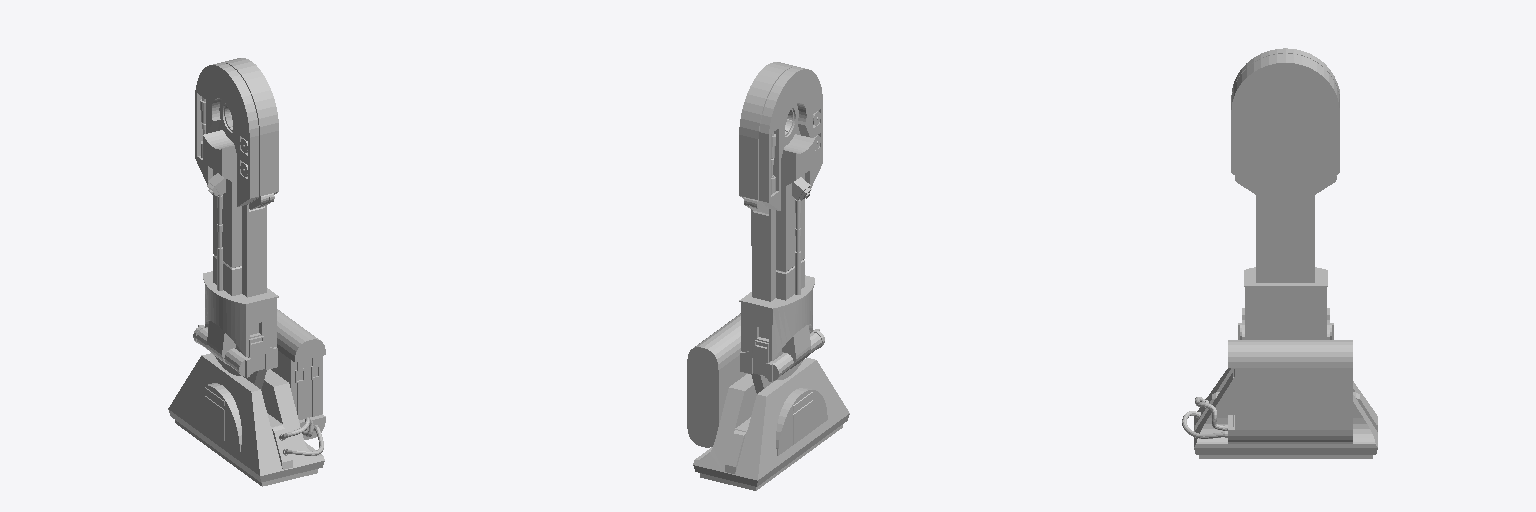
Rendered from pata izquierda color.obj.
3 renders of one model, left to right at view 1: azimuth 30°, elevation 25°; view 2: azimuth 150°, elevation 25°; view 3: azimuth 270°, elevation 25°, orthographic.
Parts seen in each view (by area): view 1: pata_izquierda; view 2: pata_izquierda; view 3: pata_izquierda.
Boxes of the visible parts, x1=… form: pata_izquierda: x1=168, y1=58, x2=325, y2=486; pata_izquierda: x1=687, y1=62, x2=849, y2=490; pata_izquierda: x1=1182, y1=48, x2=1377, y2=458.
Bounding box in the file's own units: 1.9 × 7.9 × 3.65.